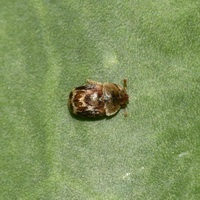insect: (68, 79, 128, 116)
